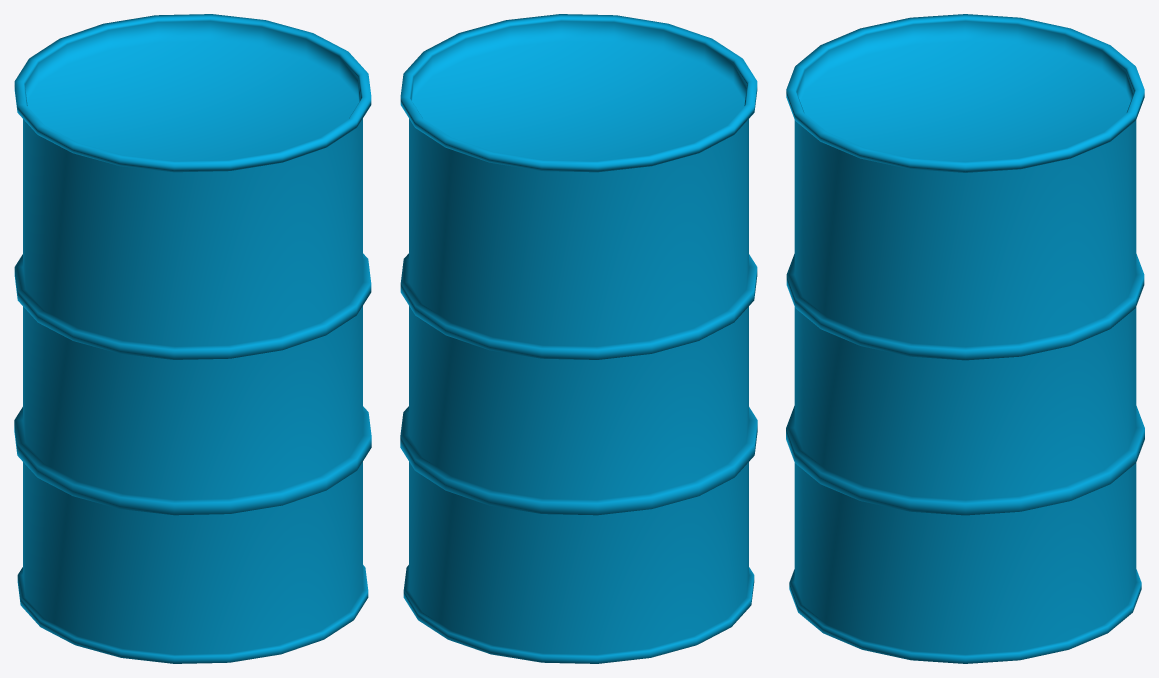
The model's file is Oil_Tank_01.fbx.
3 renders of one model, left to right at view 1: azimuth 30°, elevation 25°; view 2: azimuth 150°, elevation 25°; view 3: azimuth 270°, elevation 25°, orthographic.
Visible parts, largest first — view 1: Oil_Tank_01; view 2: Oil_Tank_01; view 3: Oil_Tank_01.
Part boxes in pixels (<box>): Oil_Tank_01: <box>14,14,371,663</box>; Oil_Tank_01: <box>400,14,757,663</box>; Oil_Tank_01: <box>786,14,1144,663</box>.
Size of the model in its own units: 63.76 by 98.05 by 63.76.
